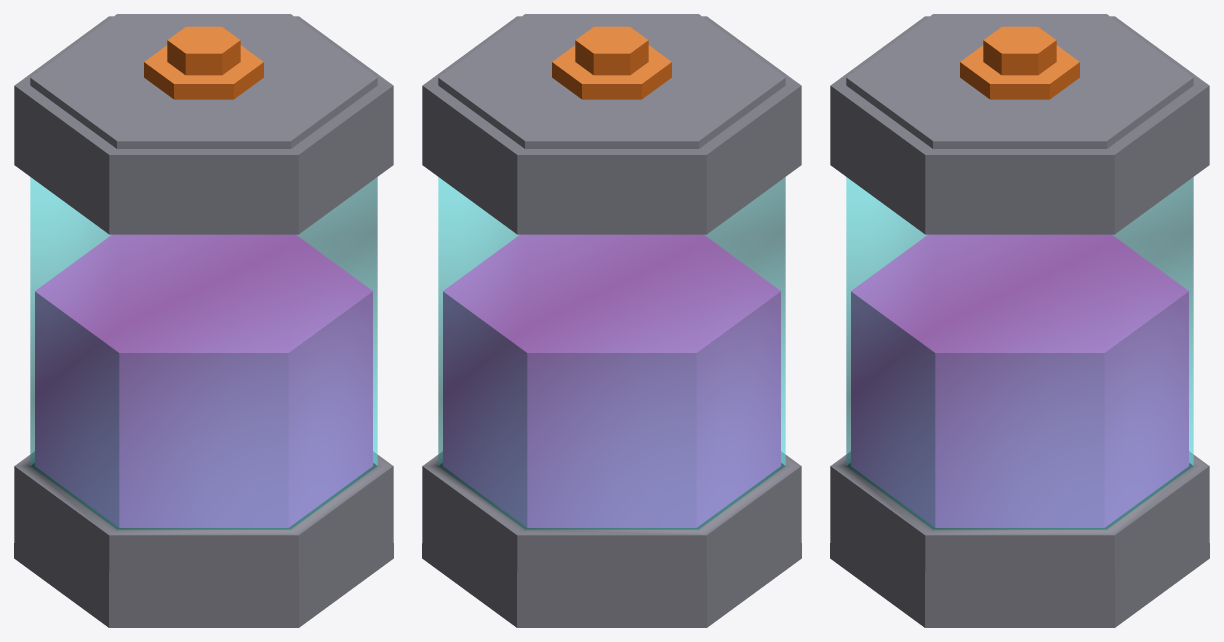
File: PlasmaPink_01.glb
3 views of the same model, side by side, from view 1: azimuth 30°, elevation 25°; view 2: azimuth 150°, elevation 25°; view 3: azimuth 270°, elevation 25° (orthographic).
Visible parts, largest first — view 1: PlasmaPink_01; view 2: PlasmaPink_01; view 3: PlasmaPink_01.
Boxes of the visible parts, left/top/right/bottom form: PlasmaPink_01: left=14, top=14, right=393, bottom=627; PlasmaPink_01: left=422, top=14, right=801, bottom=627; PlasmaPink_01: left=830, top=14, right=1209, bottom=627.
Size of what is drawn, in the model's own units: 0.2219 by 0.3859 by 0.2563.
2 materials, 2 textured.
